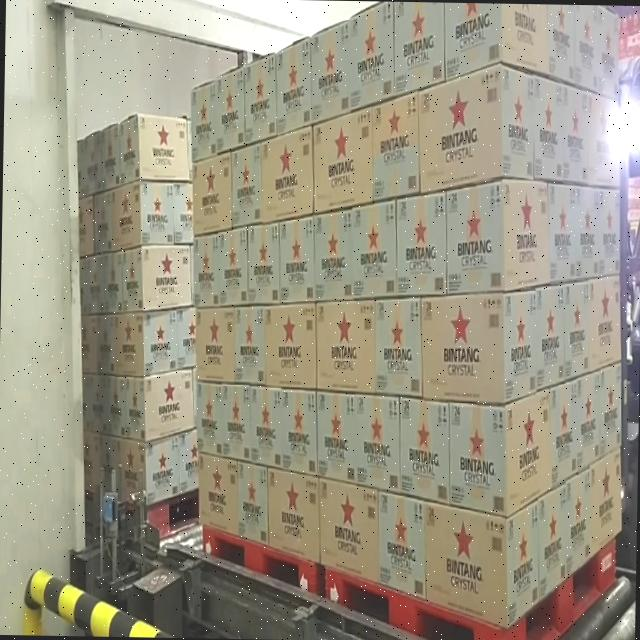pallet: (320, 0, 637, 640), (182, 31, 335, 618), (65, 101, 204, 544)
